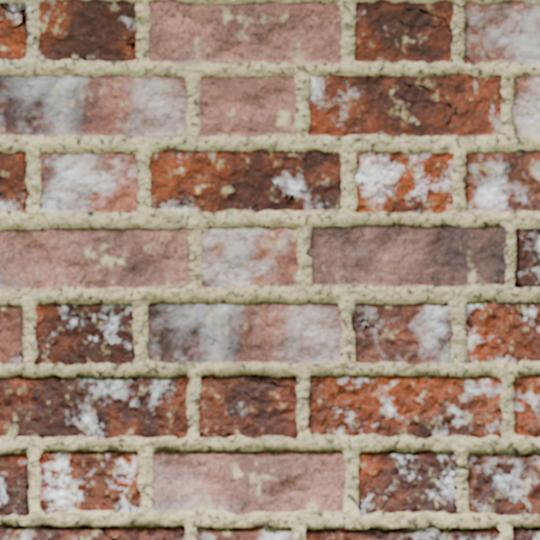brick: (153, 450, 344, 514), (0, 375, 188, 439), (308, 376, 502, 438), (149, 0, 341, 62), (311, 225, 505, 286), (309, 74, 501, 135), (149, 150, 340, 211), (148, 302, 341, 362), (0, 75, 186, 135), (0, 229, 188, 288), (39, 451, 139, 513), (359, 451, 457, 514), (199, 375, 297, 438), (34, 303, 134, 364), (355, 0, 452, 62), (352, 303, 452, 363), (355, 151, 453, 212), (38, 0, 135, 60), (40, 153, 137, 212), (200, 76, 294, 136), (202, 227, 297, 286), (464, 1, 539, 62), (467, 453, 539, 515), (465, 151, 539, 211), (465, 303, 539, 362), (306, 527, 500, 539), (0, 454, 28, 515), (511, 76, 539, 135), (0, 524, 109, 539), (0, 152, 28, 209), (514, 376, 539, 436), (515, 229, 539, 287), (0, 307, 22, 363), (197, 526, 291, 539), (104, 526, 184, 539), (256, 375, 296, 385), (513, 527, 539, 539)
broken_brick: (0, 9, 28, 60), (4, 2, 24, 10)
crack: (394, 3, 452, 32), (352, 315, 387, 342), (0, 2, 26, 30), (245, 392, 296, 405), (251, 375, 296, 389), (261, 150, 307, 160), (478, 25, 490, 61), (102, 528, 121, 539), (125, 35, 135, 53), (116, 0, 134, 5), (464, 55, 472, 63), (467, 530, 474, 539), (488, 530, 494, 539), (147, 341, 154, 348), (492, 402, 500, 406), (39, 202, 43, 208)
